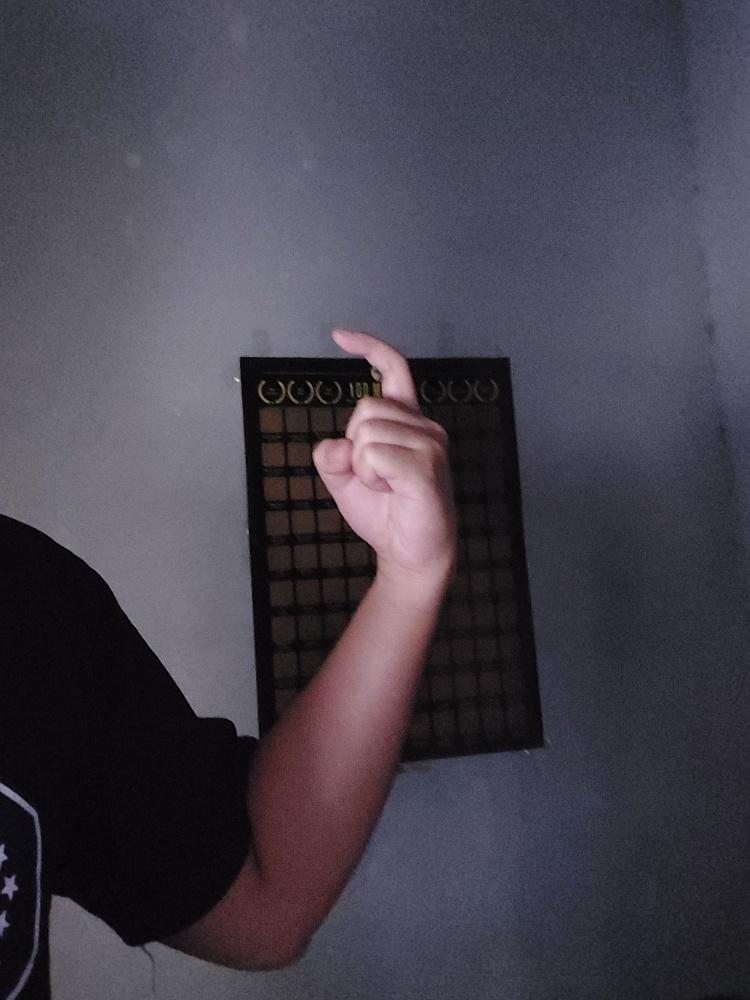x: (310, 324, 457, 566)
